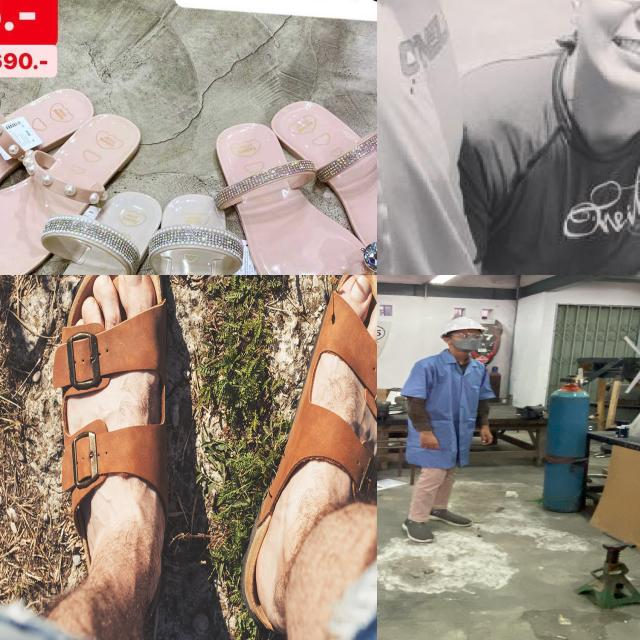Sandals: (246, 275, 377, 640), (44, 275, 181, 595), (197, 92, 377, 275), (0, 72, 162, 275), (0, 176, 259, 275)
face_mask: (446, 330, 486, 355)
glasses: (445, 330, 484, 340)
hand_noglove: (417, 430, 442, 452), (474, 428, 497, 448)
head_helmet: (437, 314, 490, 336)
person: (427, 0, 640, 275), (377, 0, 547, 275), (395, 314, 504, 548)
shoes: (423, 505, 478, 530), (396, 518, 438, 546)
